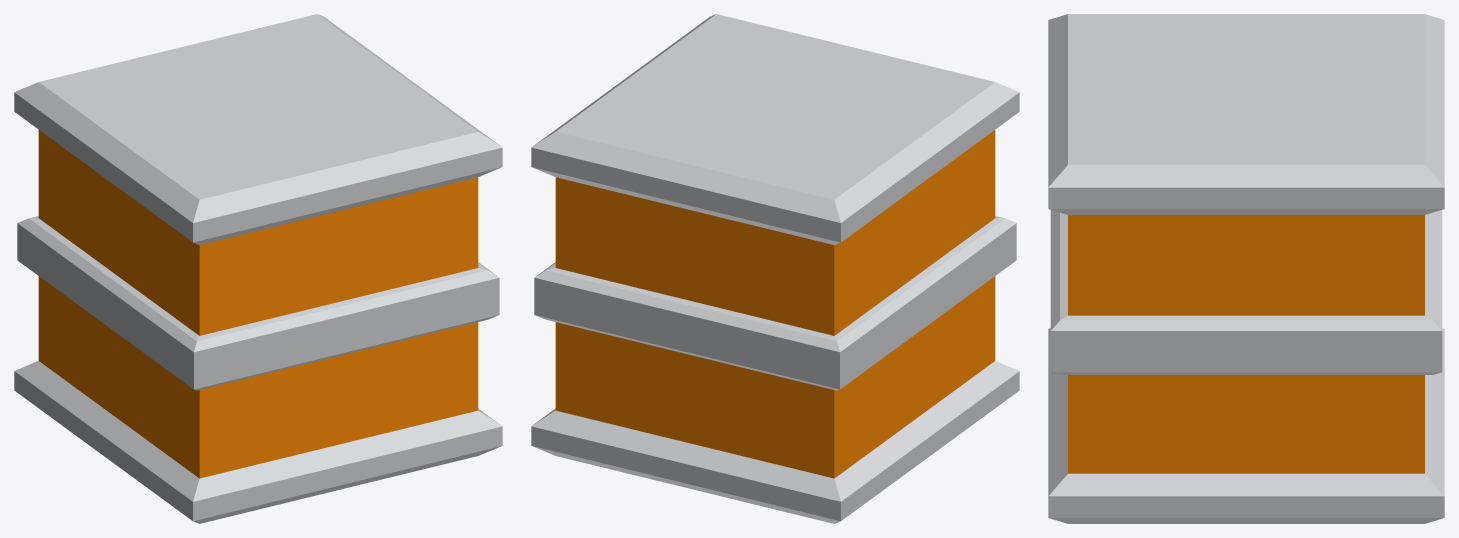
The model's file is Props_05.fbx.
The picture shows the model from 3 angles, left to right: view 1: azimuth 30°, elevation 25°; view 2: azimuth 150°, elevation 25°; view 3: azimuth 270°, elevation 25°; orthographic projection. The views are drawn at different scales.
Visible parts, largest first — view 1: BigBox.009; view 2: BigBox.009; view 3: BigBox.009.
Part boxes in pixels (x1,y1,x2,y2): BigBox.009: [14, 14, 502, 523]; BigBox.009: [531, 14, 1019, 523]; BigBox.009: [1048, 14, 1444, 523].
Bounding box in the file's own units: 0.5 × 0.5 × 0.5.
